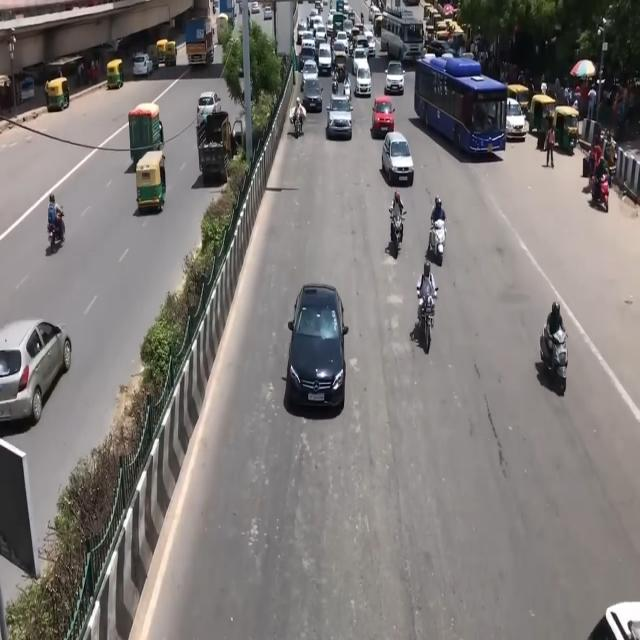auto: (129, 102, 163, 168), (135, 150, 167, 213), (552, 104, 580, 154), (529, 92, 557, 138), (44, 77, 70, 112), (507, 83, 531, 116), (106, 58, 124, 90), (164, 40, 177, 66), (147, 43, 160, 69), (156, 39, 169, 64), (216, 13, 229, 38)
bike-auto: (540, 316, 569, 395), (416, 286, 438, 352), (427, 215, 447, 267), (389, 191, 406, 247), (589, 168, 610, 212), (47, 192, 64, 246), (291, 105, 305, 139), (332, 71, 339, 94)
